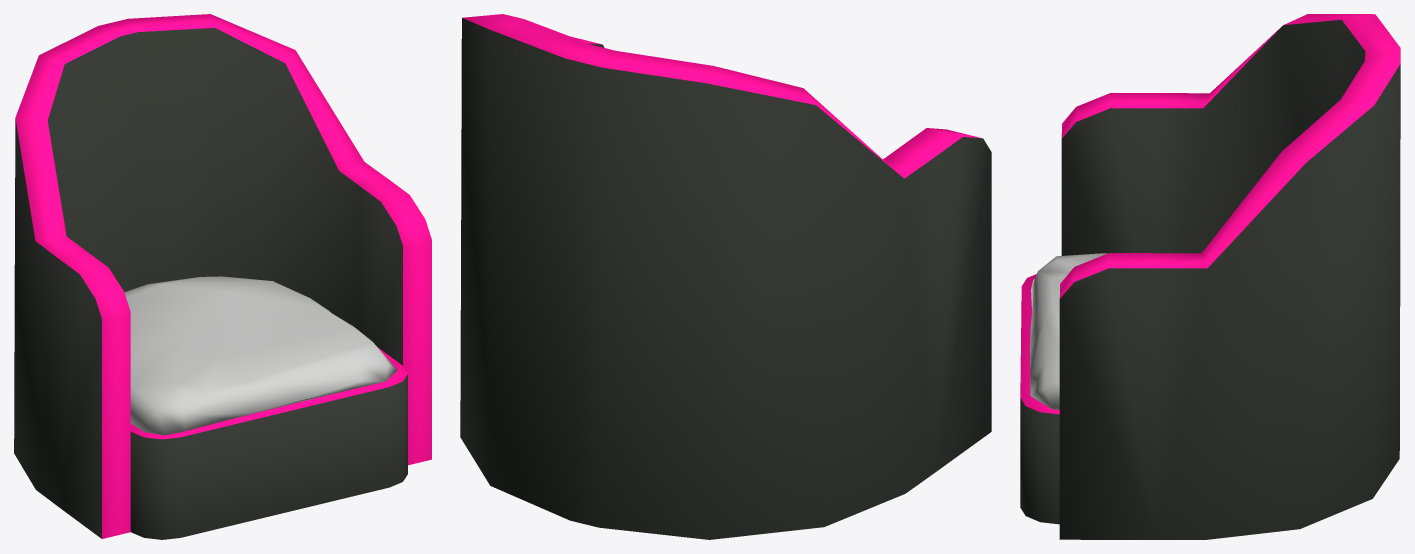
Rendered from Armchair_C.glb.
The picture shows the model from 3 angles, left to right: view 1: azimuth 30°, elevation 25°; view 2: azimuth 150°, elevation 25°; view 3: azimuth 270°, elevation 25°; orthographic projection. The views are drawn at different scales.
Visible parts, largest first — view 1: ArmchairC; view 2: ArmchairC; view 3: ArmchairC.
Part boxes in pixels (x1,y1,x2,y2): ArmchairC: (14, 14, 431, 539); ArmchairC: (460, 14, 991, 539); ArmchairC: (1020, 14, 1400, 539).
Size of what is drawn, in the model's own units: 1.4 by 1.48 by 1.28.
1 material, 1 textured.
